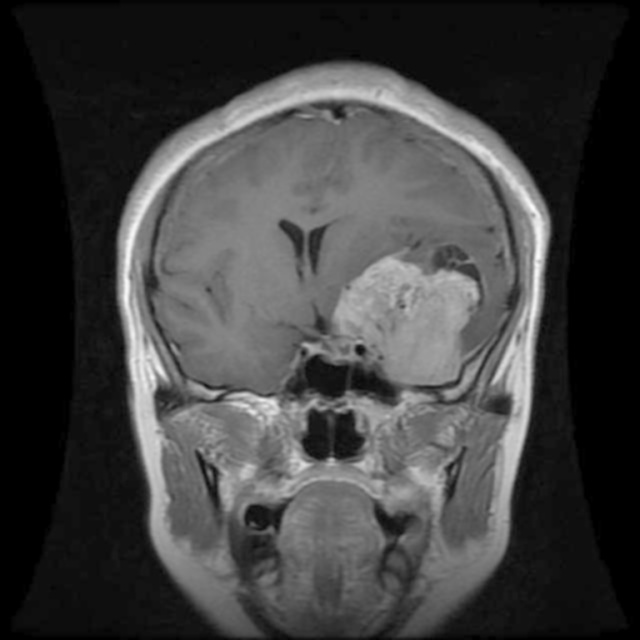meningioma tumor: (332, 246, 482, 389)
